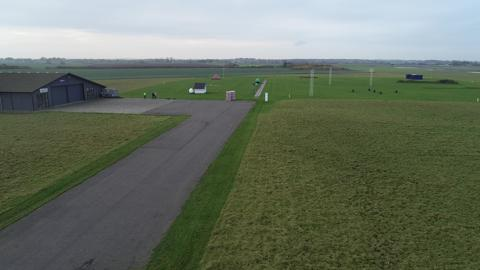RockwoolPallet: (229, 89, 236, 102)
